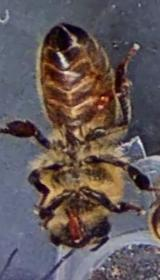varroa_mite: (86, 81, 120, 114)
